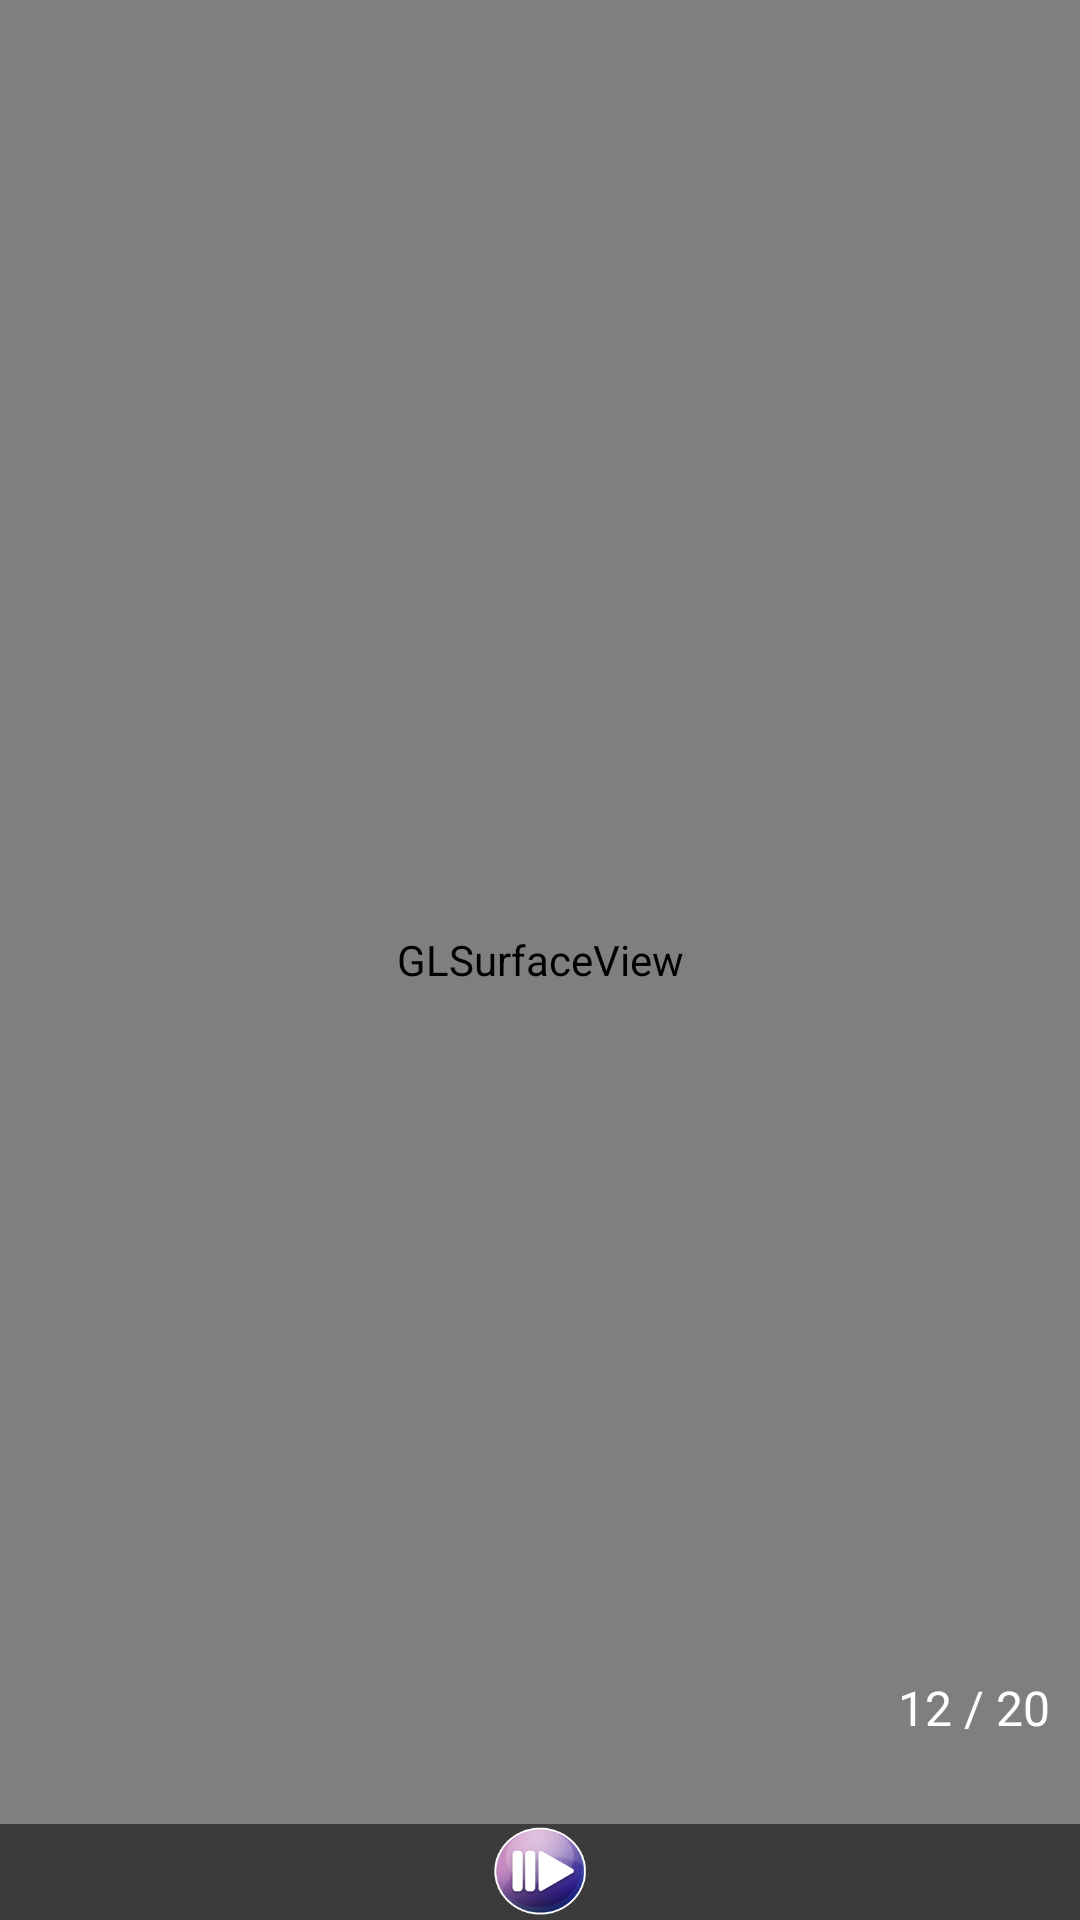

Where icons sit on this 1080×1920 app screen, as (x1, y1, x2, y2):
play pause: (494, 1827, 586, 1915)
